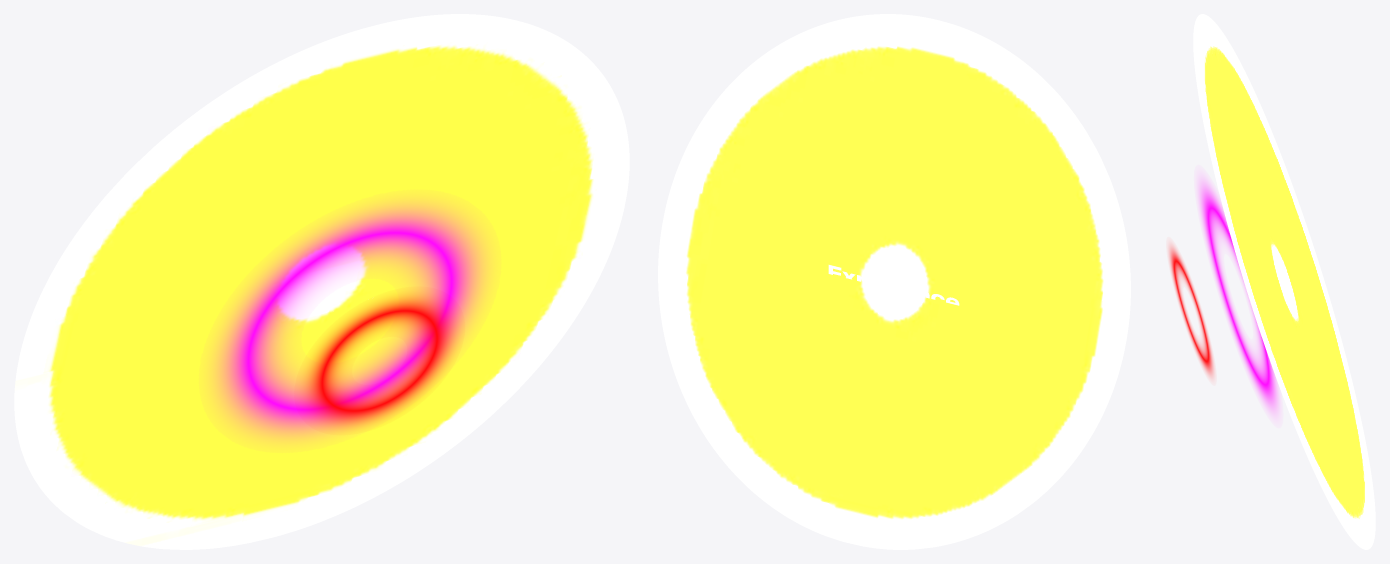
3 renders of one model, left to right at view 1: azimuth 30°, elevation 25°; view 2: azimuth 150°, elevation 25°; view 3: azimuth 270°, elevation 25°, orthographic. The views are drawn at different scales.
Visible parts, largest first — view 1: BezierCircle; view 2: BezierCircle; view 3: BezierCircle.
Part boxes in pixels (x1=…): BezierCircle: x1=14, y1=14, x2=629, y2=549; BezierCircle: x1=658, y1=14, x2=1130, y2=549; BezierCircle: x1=1169, y1=14, x2=1375, y2=549.
Bounding box in the file's own units: 3.09 × 2.92 × 1.19.
4 materials, 3 textured.
